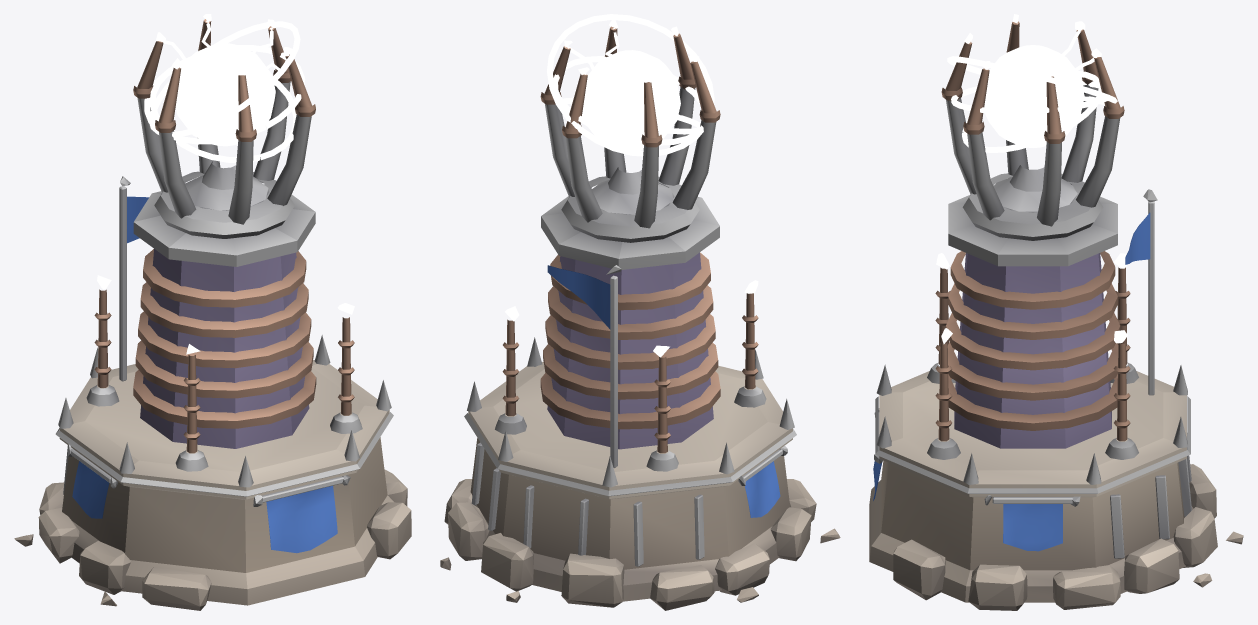
The model's file is spark_1_8.glb.
3 renders of one model, left to right at view 1: azimuth 30°, elevation 25°; view 2: azimuth 150°, elevation 25°; view 3: azimuth 270°, elevation 25°, orthographic.
Parts seen in each view (by area): view 1: Tower, Turret; view 2: Tower, Turret; view 3: Tower, Turret.
Part boxes in pixels (x1,y1,x2,y2): Tower: [14, 176, 411, 610]; Turret: [133, 14, 315, 238]; Tower: [440, 192, 840, 610]; Turret: [540, 14, 720, 242]; Tower: [869, 184, 1243, 610]; Turret: [941, 14, 1124, 240].
Size of the model in its own units: 3.56 by 5.2 by 3.51.
